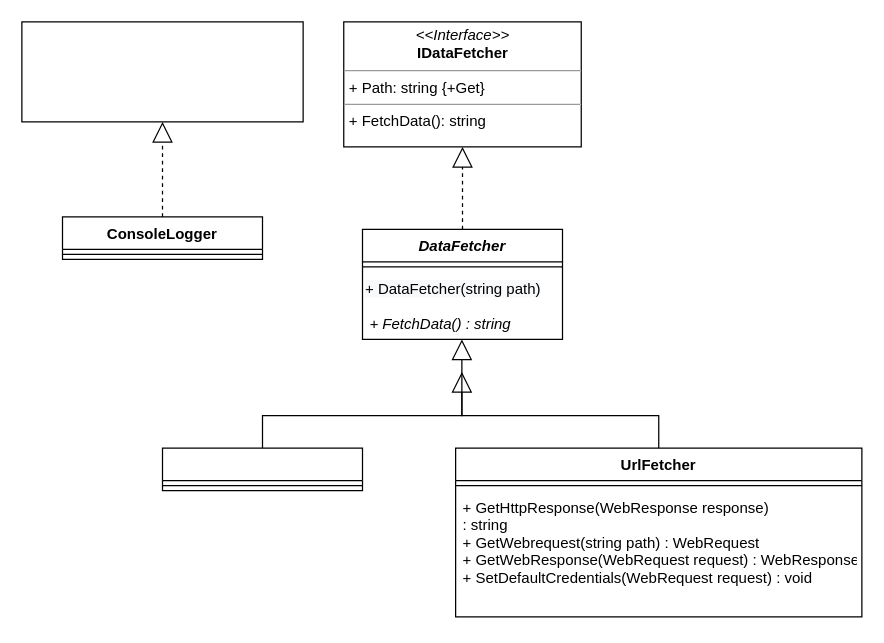
This 884x643 diagram has some shape labels left out. Each missing label, with the centre of its shape:
"<<Interface>> ILogger + LogMessage(string message): void" goes at point (162, 71).
"FileFetcher" goes at point (261, 469).
